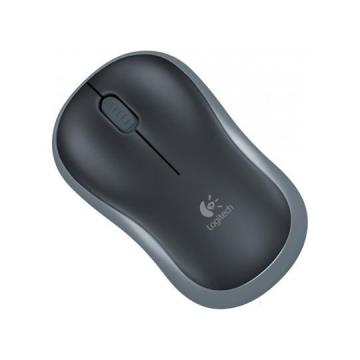logitech-mouse-m185: (45, 47, 310, 315)
